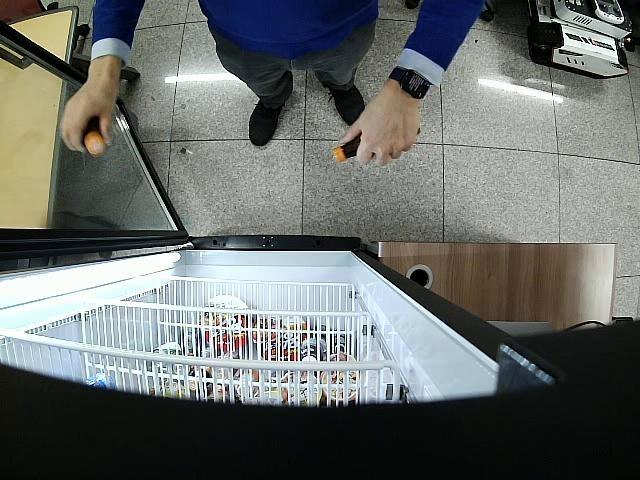17_vita500: (332, 122, 422, 164), (82, 116, 105, 156)
